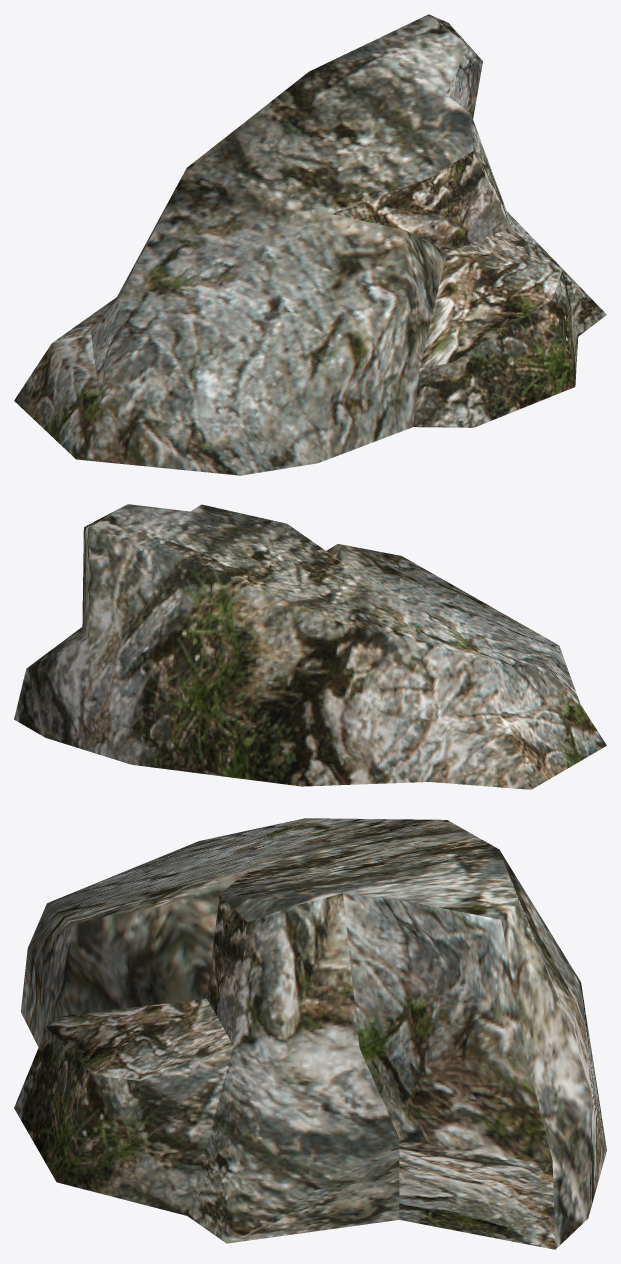
Rendered from shijieditu_14.FBX.
3 views of the same model, one above another, from view 1: azimuth 30°, elevation 25°; view 2: azimuth 150°, elevation 25°; view 3: azimuth 270°, elevation 25° (orthographic). The views are drawn at different scales.
Visible parts, largest first — view 1: shijieditu_14; view 2: shijieditu_14; view 3: shijieditu_14.
Part boxes in pixels (box(x1,y1,x2,y2)): shijieditu_14: box(14, 14, 606, 475); shijieditu_14: box(14, 504, 606, 789); shijieditu_14: box(14, 818, 606, 1249).
Bounding box in the file's own units: 80.27 × 32.19 × 57.57.
